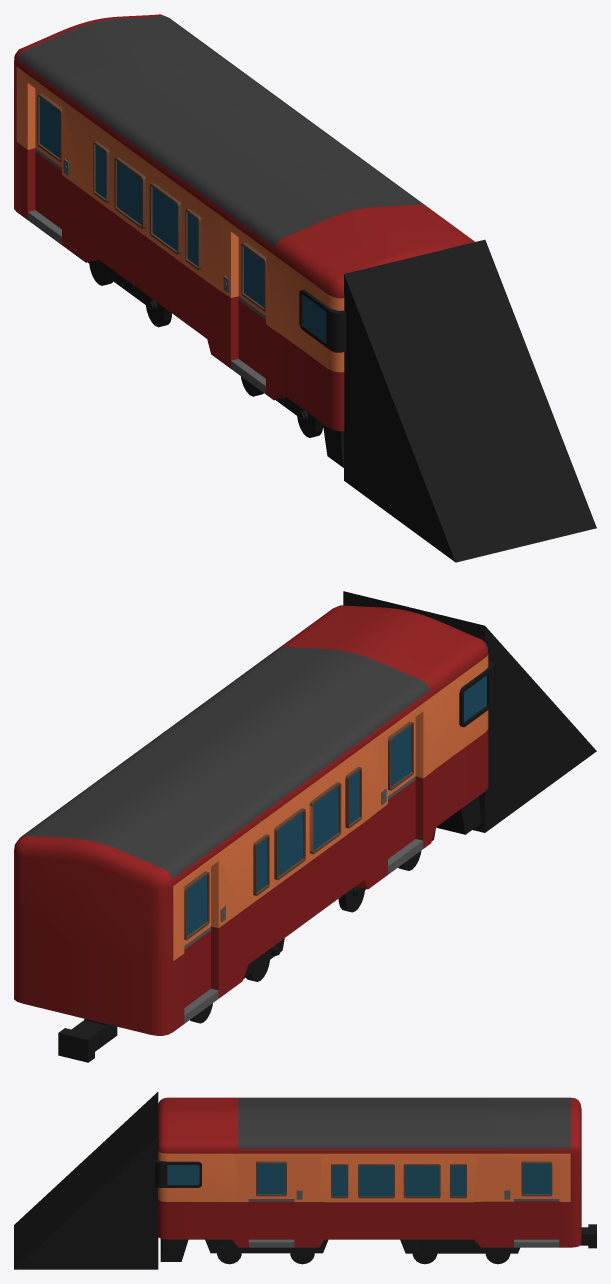
Rendered from uptrain.FBX.
3 views of the same model, one above another, from view 1: azimuth 30°, elevation 25°; view 2: azimuth 150°, elevation 25°; view 3: azimuth 270°, elevation 25° (orthographic). The views are drawn at different scales.
Visible parts, largest first — view 1: Object002; view 2: Object002; view 3: Object002.
Boxes of the visible parts, x1=… form: Object002: x1=14, y1=14, x2=596, y2=562; Object002: x1=14, y1=591, x2=596, y2=1062; Object002: x1=14, y1=1092, x2=596, y2=1269.
Bounding box in the file's own units: 41.11 × 50.34 × 198.
